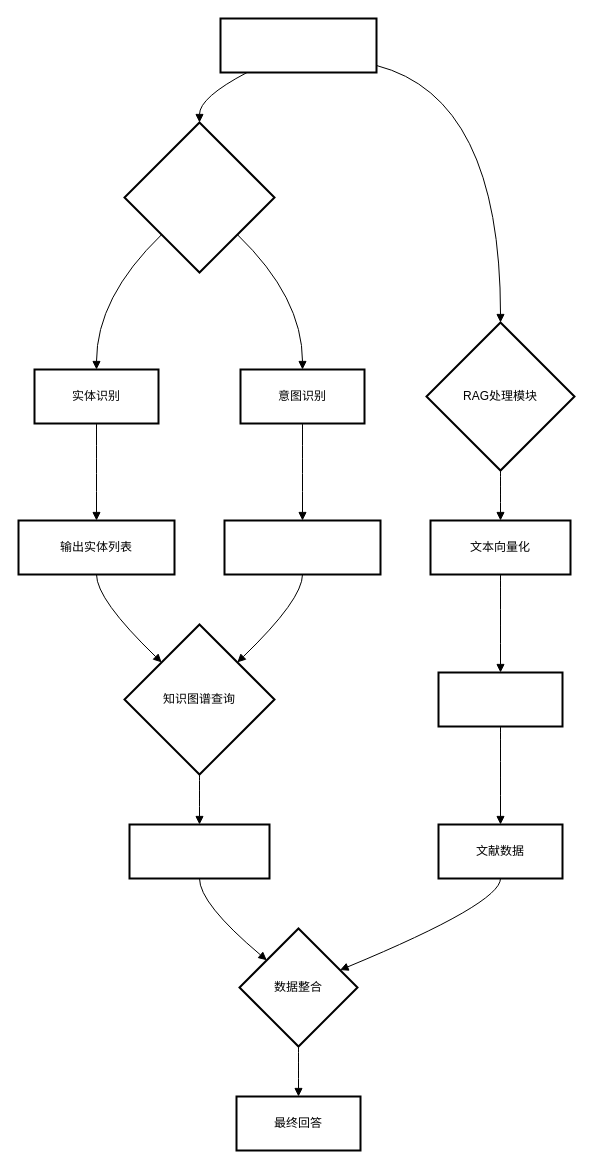
Some shapes in this 592 by 1168 pixel diagram are drawn without their labels. The centre of each missing label's shape, as x and y in pixels:
"关系类型映射" goes at [302,547].
"向量检索" goes at [500,699].
"用户输入问句" goes at [298,45].
"结构化数据" goes at [199,851].
"问句解析模块" goes at [199,197].
